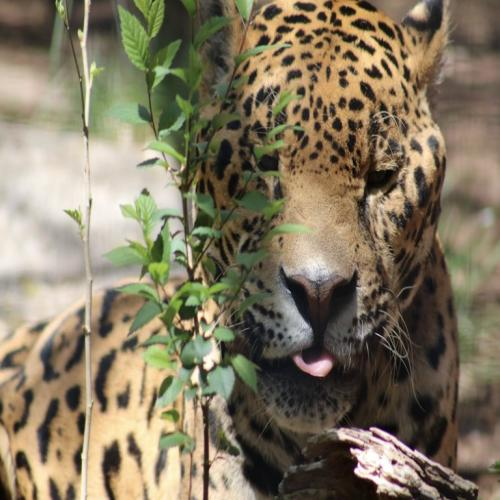jaguar_not-endangered: (7, 14, 460, 486)
